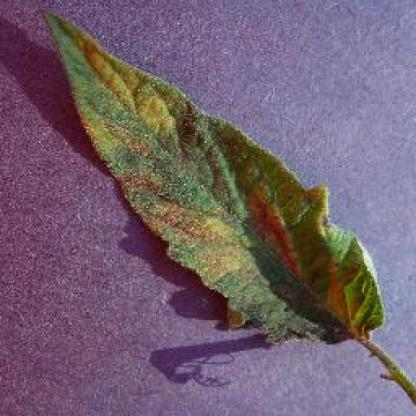Tomato_Leaf_Mold: (39, 13, 384, 343)
